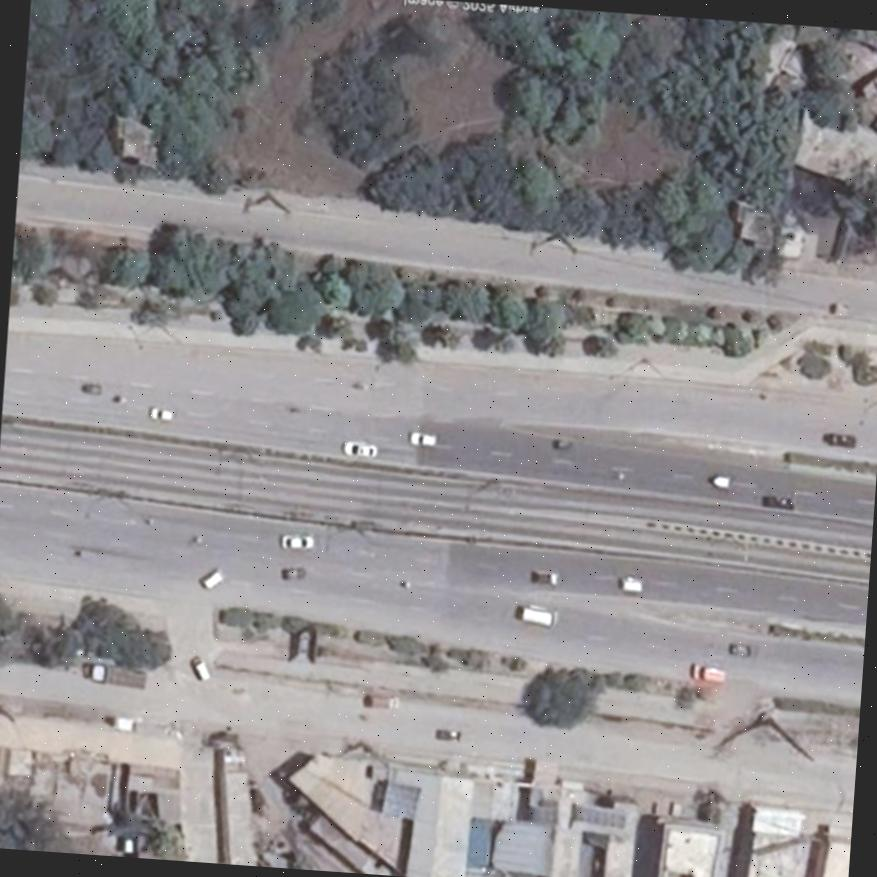Solarpanel: (574, 809, 625, 830)
